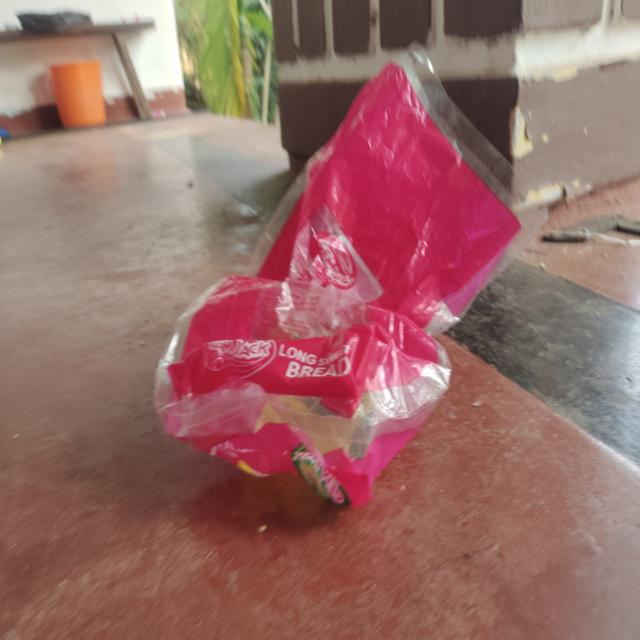plastic: (153, 37, 550, 509)
